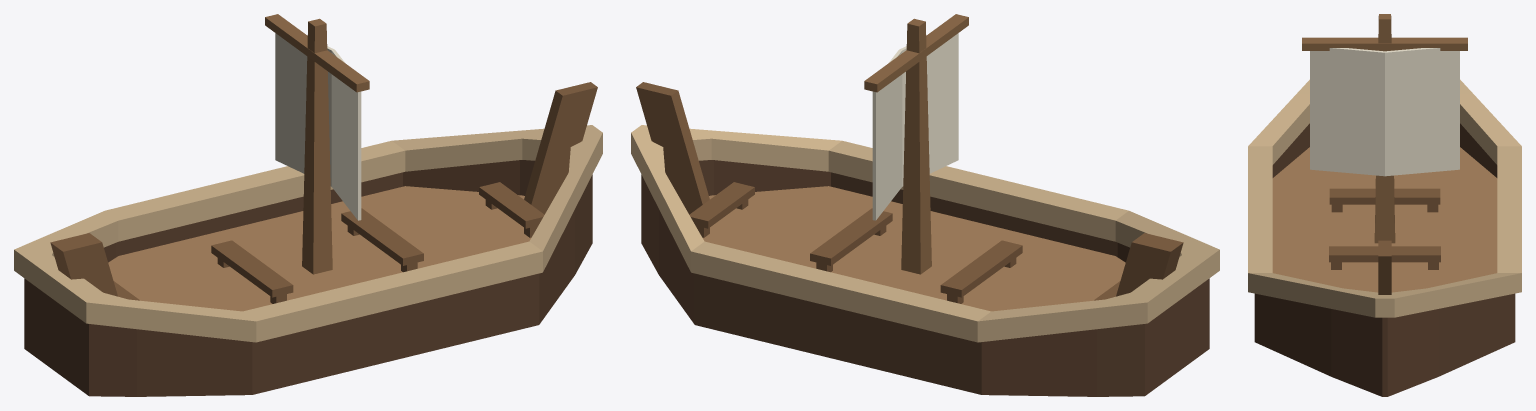
File: boat.glb
3 renders of one model, left to right at view 1: azimuth 30°, elevation 25°; view 2: azimuth 150°, elevation 25°; view 3: azimuth 270°, elevation 25°, orthographic. The views are drawn at different scales.
Visible parts, largest first — view 1: boat_hull, boat_rim, boat_deck, boat_sail, boat_mast, boat_stem, boat_tail, boat_yard, boat_bench_1, boat_bench_2, boat_bench_3; view 2: boat_hull, boat_rim, boat_deck, boat_sail, boat_mast, boat_stem, boat_tail, boat_yard, boat_bench_1, boat_bench_2, boat_bench_3; view 3: boat_deck, boat_sail, boat_hull, boat_rim, boat_yard, boat_mast, boat_bench_2, boat_bench_1, boat_stem.
Boxes of the visible parts, left/top/right/bottom form: boat_hull: left=24, top=160, right=592, bottom=396; boat_rim: left=14, top=125, right=602, bottom=342; boat_deck: left=108, top=186, right=537, bottom=311; boat_sail: left=275, top=33, right=361, bottom=220; boat_mast: left=302, top=18, right=332, bottom=274; boat_stem: left=524, top=82, right=597, bottom=214; boat_tail: left=50, top=233, right=117, bottom=296; boat_yard: left=265, top=14, right=369, bottom=92; boat_bench_1: left=211, top=240, right=293, bottom=297; boat_bench_2: left=341, top=208, right=423, bottom=265; boat_bench_3: left=479, top=182, right=544, bottom=228; boat_hull: left=641, top=160, right=1209, bottom=396; boat_rim: left=631, top=125, right=1219, bottom=342; boat_deck: left=696, top=186, right=1125, bottom=311; boat_sail: left=872, top=33, right=958, bottom=220; boat_mast: left=901, top=18, right=931, bottom=274; boat_stem: left=636, top=82, right=709, bottom=214; boat_tail: left=1116, top=233, right=1183, bottom=296; boat_yard: left=864, top=14, right=968, bottom=92; boat_bench_1: left=940, top=240, right=1022, bottom=297; boat_bench_2: left=810, top=208, right=892, bottom=265; boat_bench_3: left=689, top=182, right=754, bottom=228; boat_deck: left=1272, top=147, right=1497, bottom=292; boat_sail: left=1310, top=48, right=1459, bottom=176; boat_hull: left=1254, top=123, right=1515, bottom=396; boat_rim: left=1248, top=79, right=1521, bottom=317; boat_yard: left=1302, top=37, right=1467, bottom=50; boat_mast: left=1374, top=14, right=1395, bottom=243; boat_bench_2: left=1329, top=246, right=1440, bottom=262; boat_bench_1: left=1329, top=188, right=1440, bottom=204; boat_stem: left=1378, top=240, right=1391, bottom=294.
Bounding box in the file's own units: 4.2 × 2.1 × 2.01.
